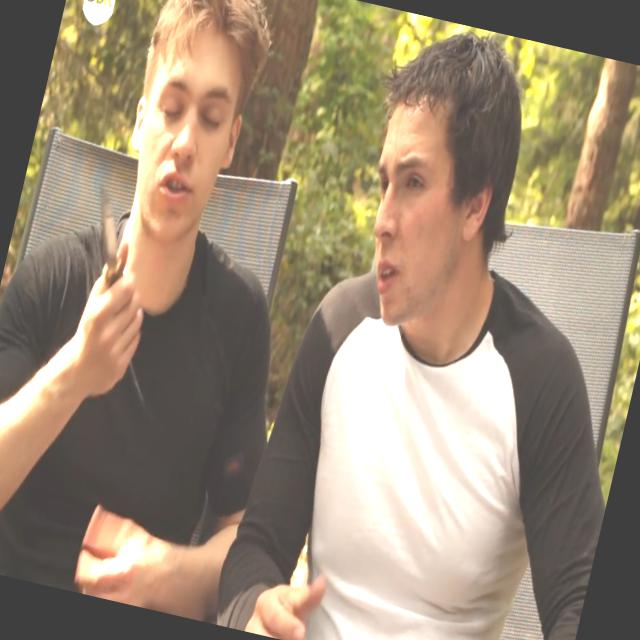knife: (59, 170, 182, 358)
